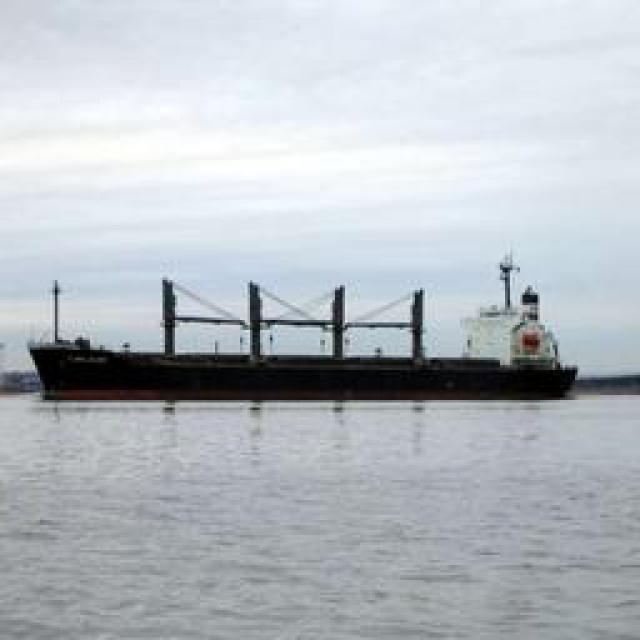Ship: (32, 281, 580, 404)
